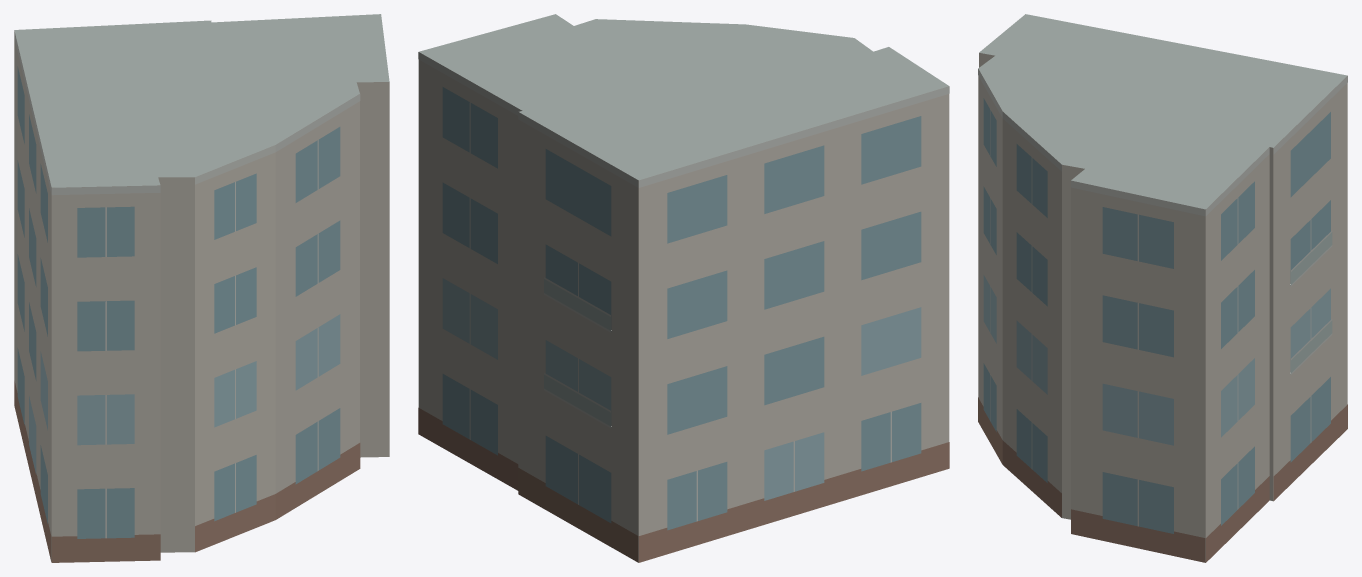
The model's file is survey-upis-32672618.glb.
3 views of the same model, side by side, from view 1: azimuth 30°, elevation 25°; view 2: azimuth 150°, elevation 25°; view 3: azimuth 270°, elevation 25° (orthographic). The views are drawn at different scales.
Visible parts, largest first — view 1: survey-upis-32672618.tmp; view 2: survey-upis-32672618.tmp; view 3: survey-upis-32672618.tmp.
Boxes of the visible parts, x1=… form: survey-upis-32672618.tmp: x1=14, y1=14, x2=389, y2=562; survey-upis-32672618.tmp: x1=418, y1=14, x2=949, y2=562; survey-upis-32672618.tmp: x1=978, y1=14, x2=1347, y2=562.
Size of the model in its own units: 14.6 by 12.3 by 11.67.
